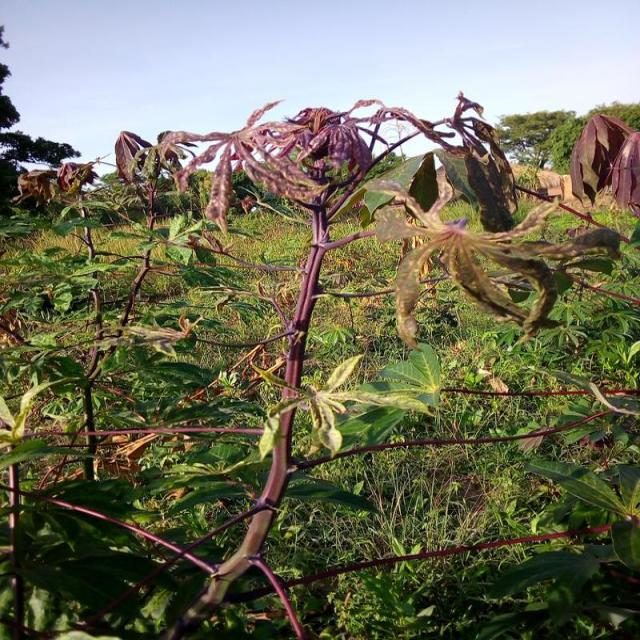cassava leaf: (569, 112, 634, 205)
